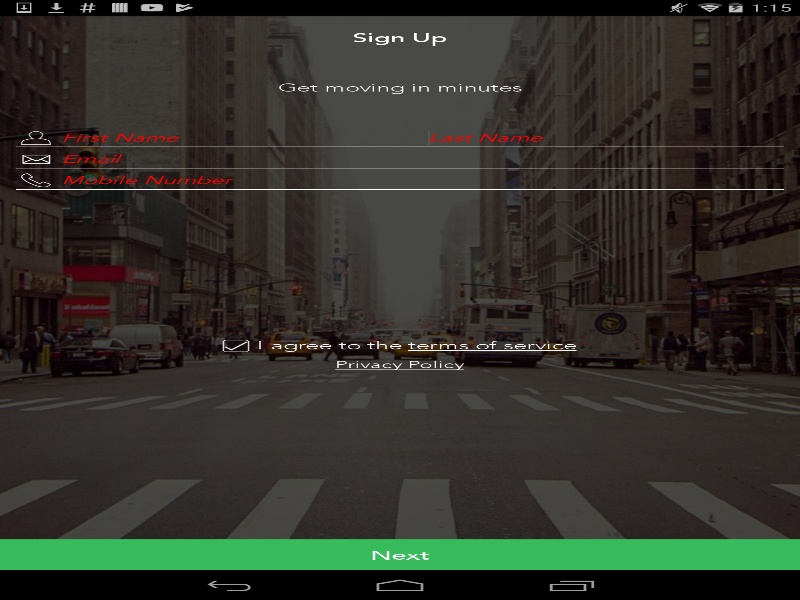Button: (0, 539, 800, 570)
Input: (50, 170, 784, 190), (50, 149, 784, 168), (50, 128, 417, 147), (417, 128, 784, 147)
